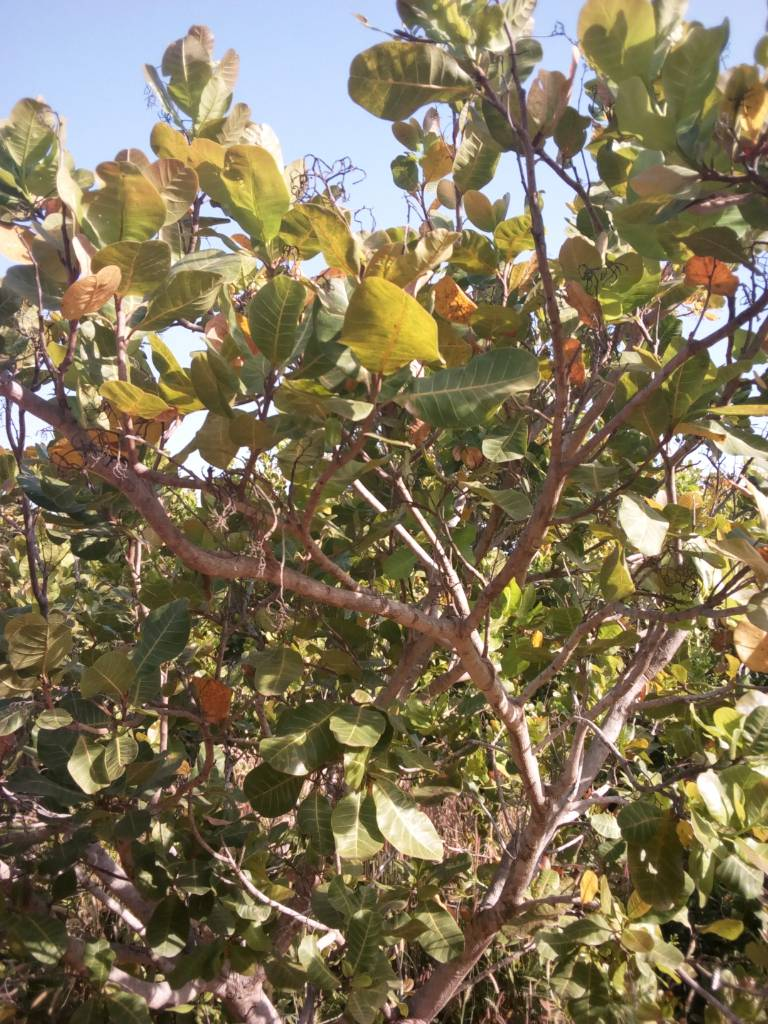Dessèchement des bourgeons: (308, 147, 363, 202), (579, 258, 630, 302)
